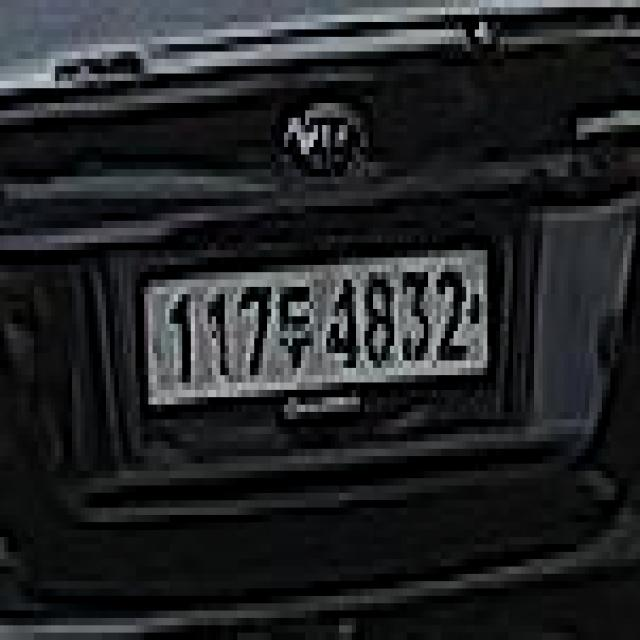illegal_plate: (136, 239, 501, 425)
